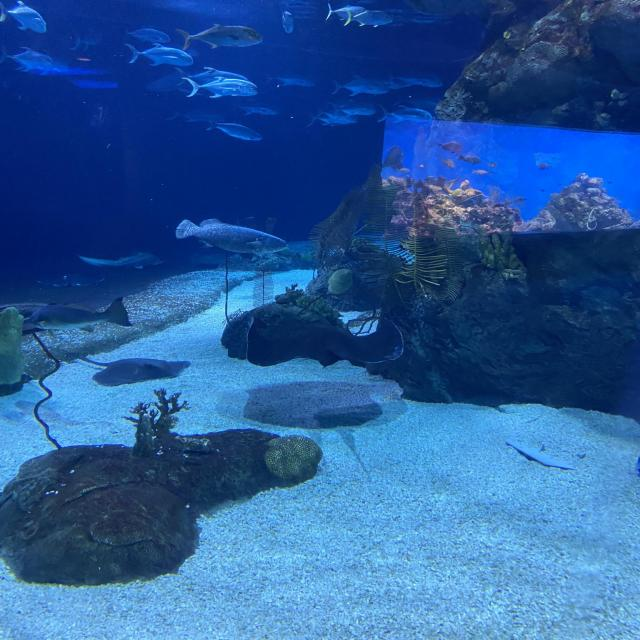fish: (176, 218, 289, 254), (29, 296, 131, 334), (176, 24, 262, 53), (181, 76, 257, 100), (0, 45, 57, 76), (124, 43, 193, 68), (78, 252, 165, 270), (0, 2, 48, 34), (205, 120, 262, 142), (377, 103, 432, 125), (174, 68, 249, 84), (332, 76, 388, 97), (390, 68, 444, 89), (344, 8, 393, 28), (265, 70, 316, 89), (122, 27, 172, 45), (326, 100, 374, 118), (314, 106, 358, 125), (326, 4, 370, 22), (234, 102, 278, 117), (303, 112, 344, 128), (280, 8, 294, 34)
stingray: (241, 314, 404, 366), (90, 358, 190, 387)
